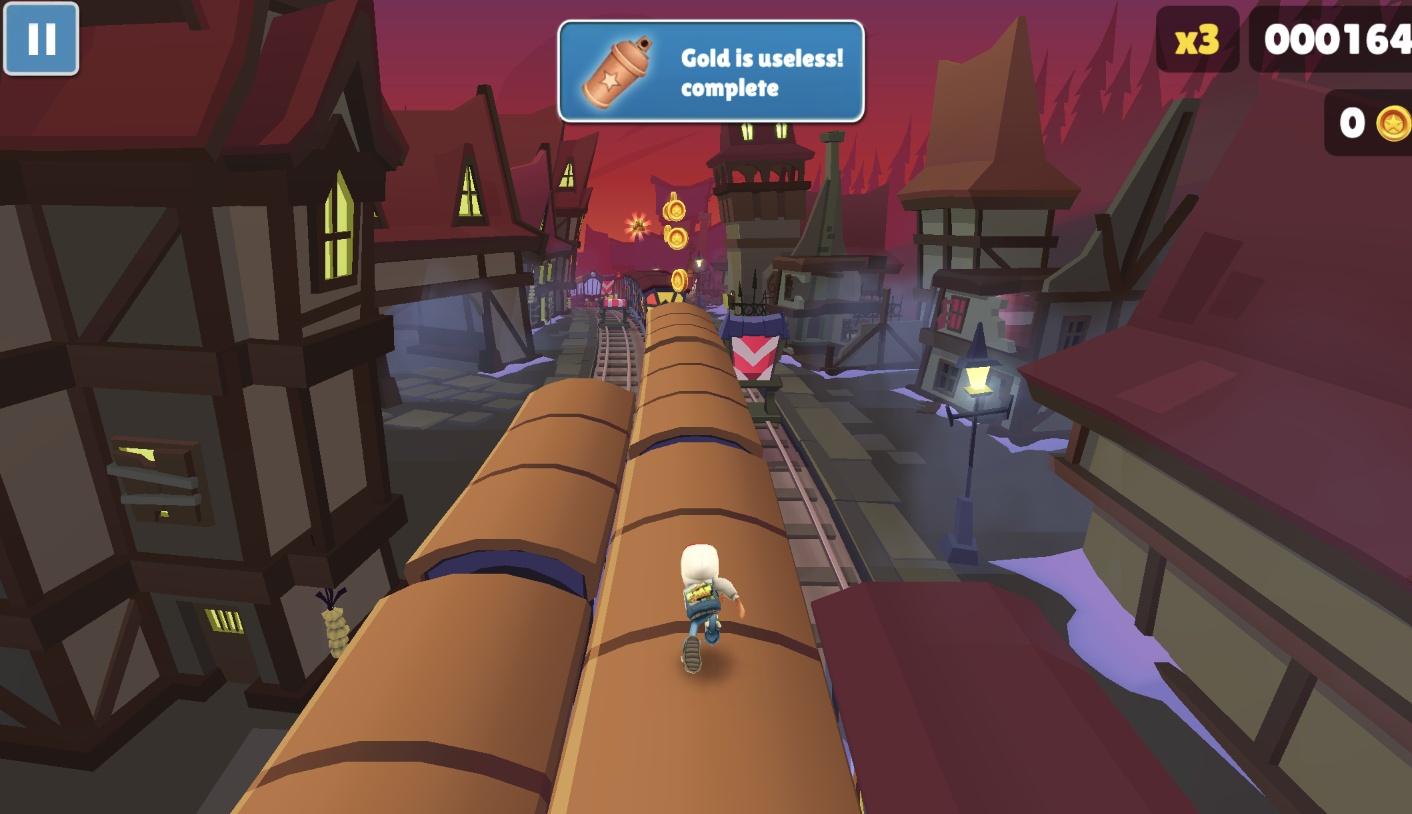ground_barrier: (599, 300, 631, 330)
overhead_barrier: (723, 309, 797, 407)
train: (209, 378, 632, 814), (547, 299, 858, 814), (809, 579, 1201, 814), (617, 268, 685, 320), (575, 271, 609, 309)
